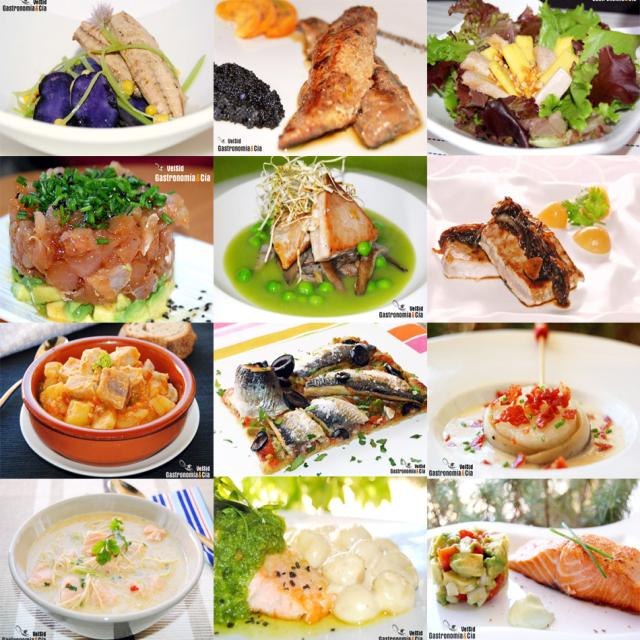pescado: (285, 16, 423, 152)
